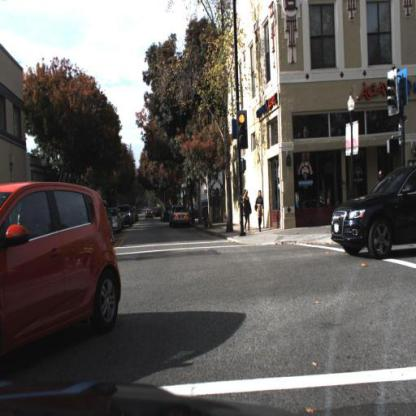car: (2, 184, 124, 361), (330, 161, 416, 259), (109, 205, 123, 241), (172, 203, 191, 228), (112, 208, 125, 235), (122, 203, 134, 230)
pedestrian: (254, 191, 266, 233), (244, 188, 254, 234), (244, 189, 253, 238), (257, 188, 266, 232)
trafficLight: (237, 113, 249, 153)
